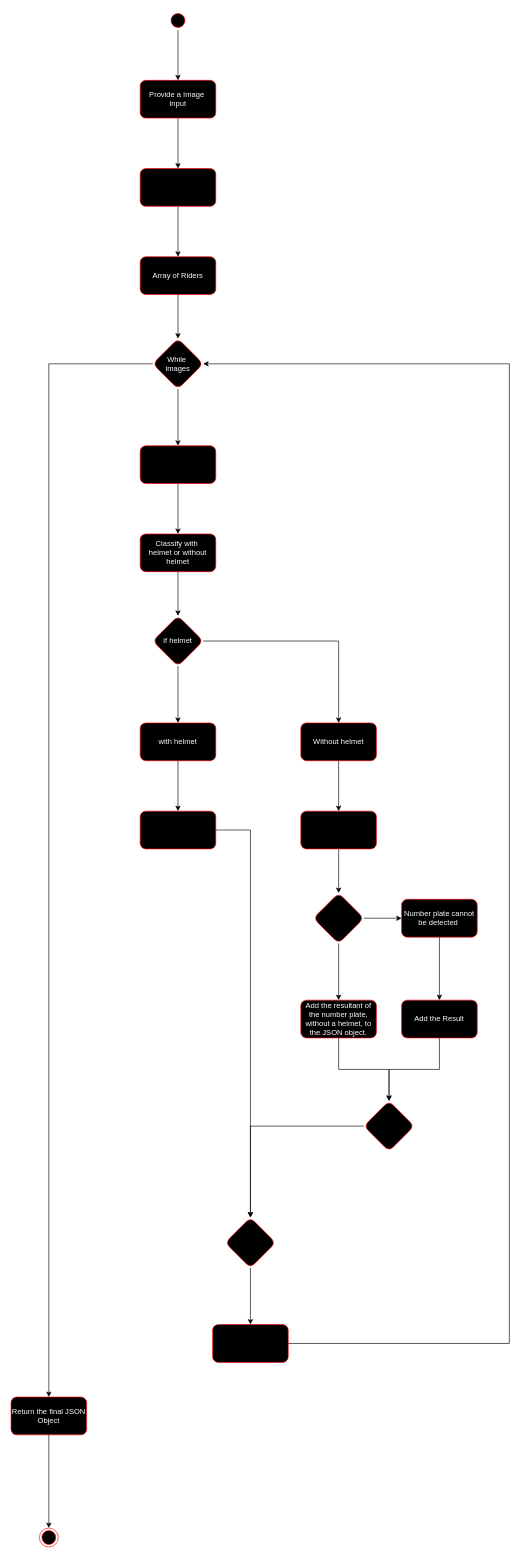
Some shapes in this 525 by 1558 pixel diagram are drawn without their labels. Each missing label, with the centre of its shape:
Add the result to Json object for that particular image: the point at 178,829
Append the result to the JSON Object: the point at 250,1343
COCO-SSD Crop Riders: the point at 178,187
Extract Numberplate OCR: the point at 338,829
OCR model: the point at 338,917
YOLO Model: the point at 178,464
